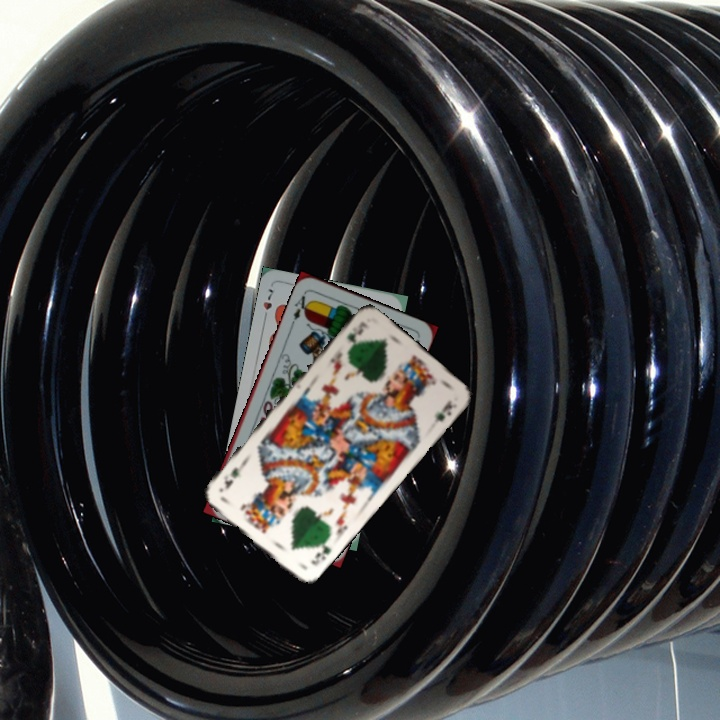EA: (287, 291, 313, 327)
GK: (307, 535, 333, 568), (343, 318, 369, 346)
H7: (259, 284, 276, 324)
